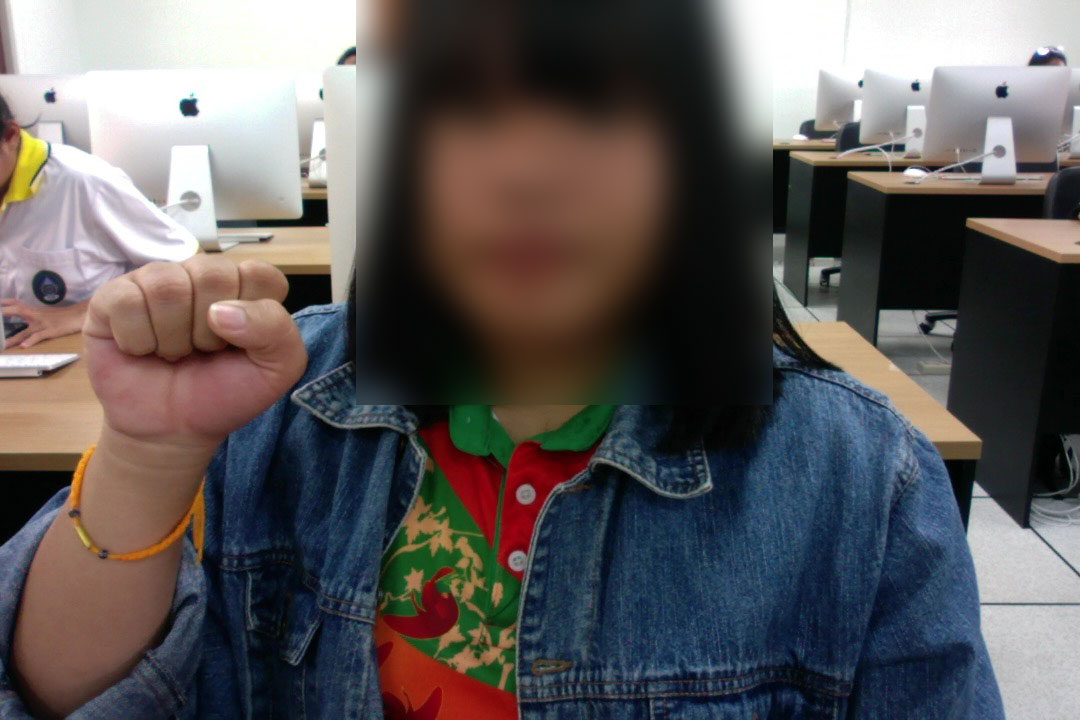sor: (80, 253, 310, 465)
